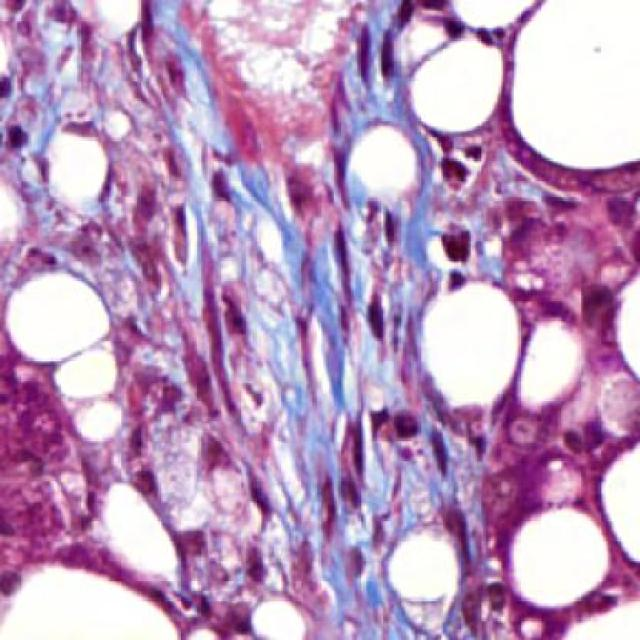steatosis: (506, 506, 607, 606), (349, 125, 419, 198)
